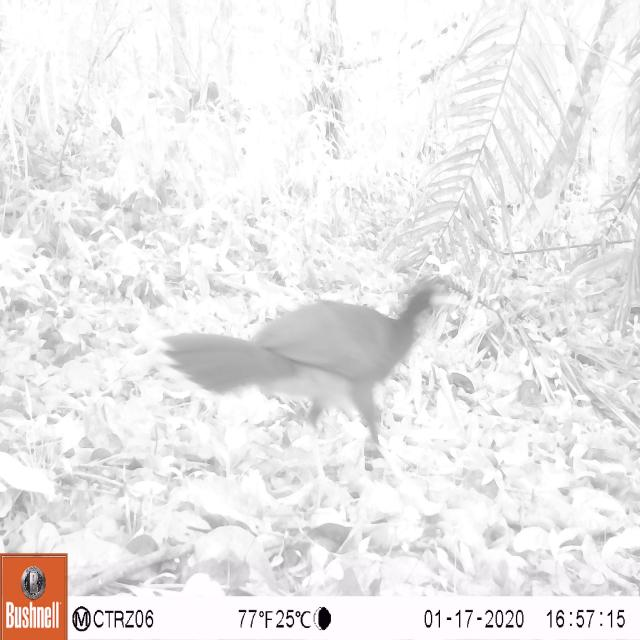Salvins Curassow: (153, 268, 475, 486)
